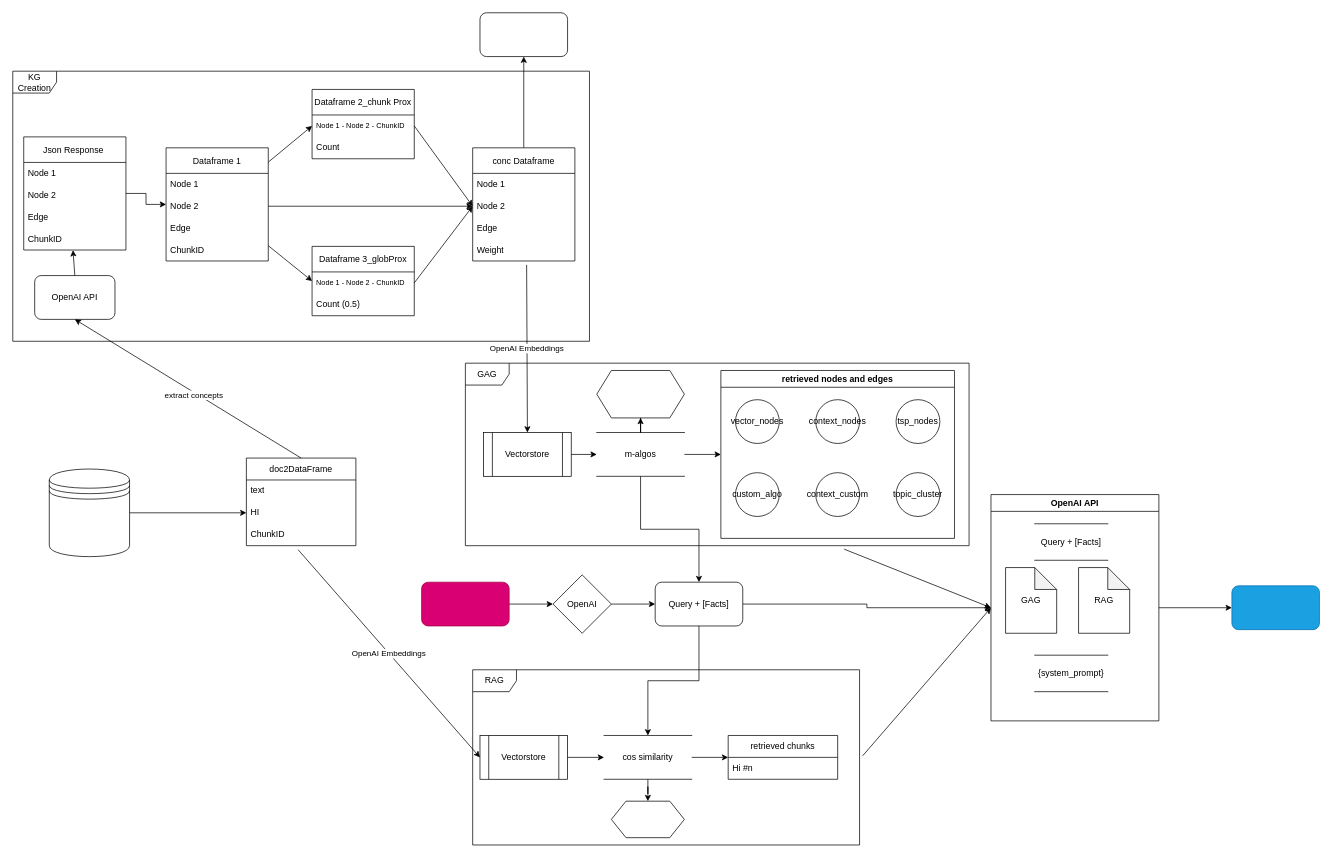
The diagram is 1332 pixels wide and 858 high, and some of its shapes have lost their labels. The shapes that lost their labels are listed below. From the top down, each one's centre as x and y in pixels, then its label:
At point (523, 34): "Graph visualisation".
At point (640, 394): "#toDO: advanced Graph Traversal".
At point (89, 512): "Corpus".
At point (465, 603): "Query".
At point (1275, 607): "Response".
At point (647, 819): "#toDO: Advanced RAG Retrieveal".
